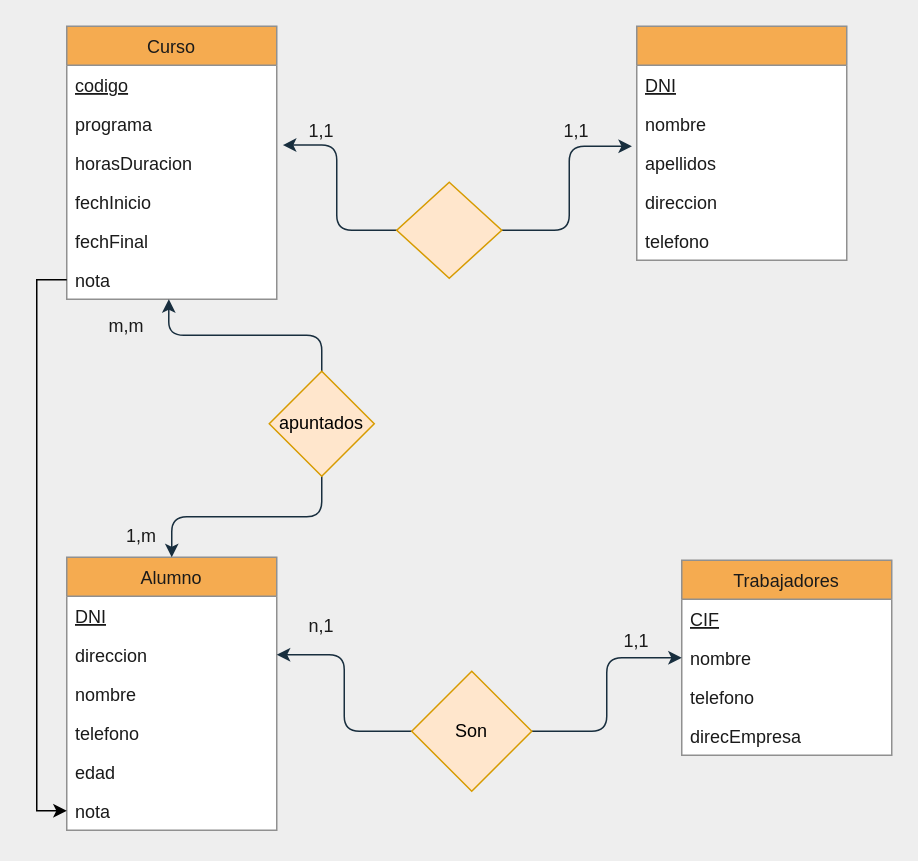
Some shapes in this 918 by 861 pixel diagram are drawn without their labels. Each missing label, with the box of its shape:
Profesores: (635, 25, 847, 260)
trabaja: (395, 181, 502, 278)
